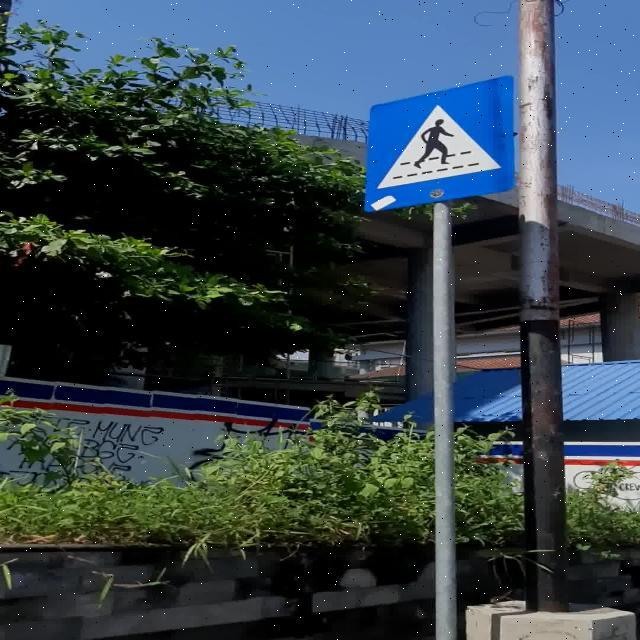Perintah Jalur Penyebrangan: (363, 74, 517, 212)
